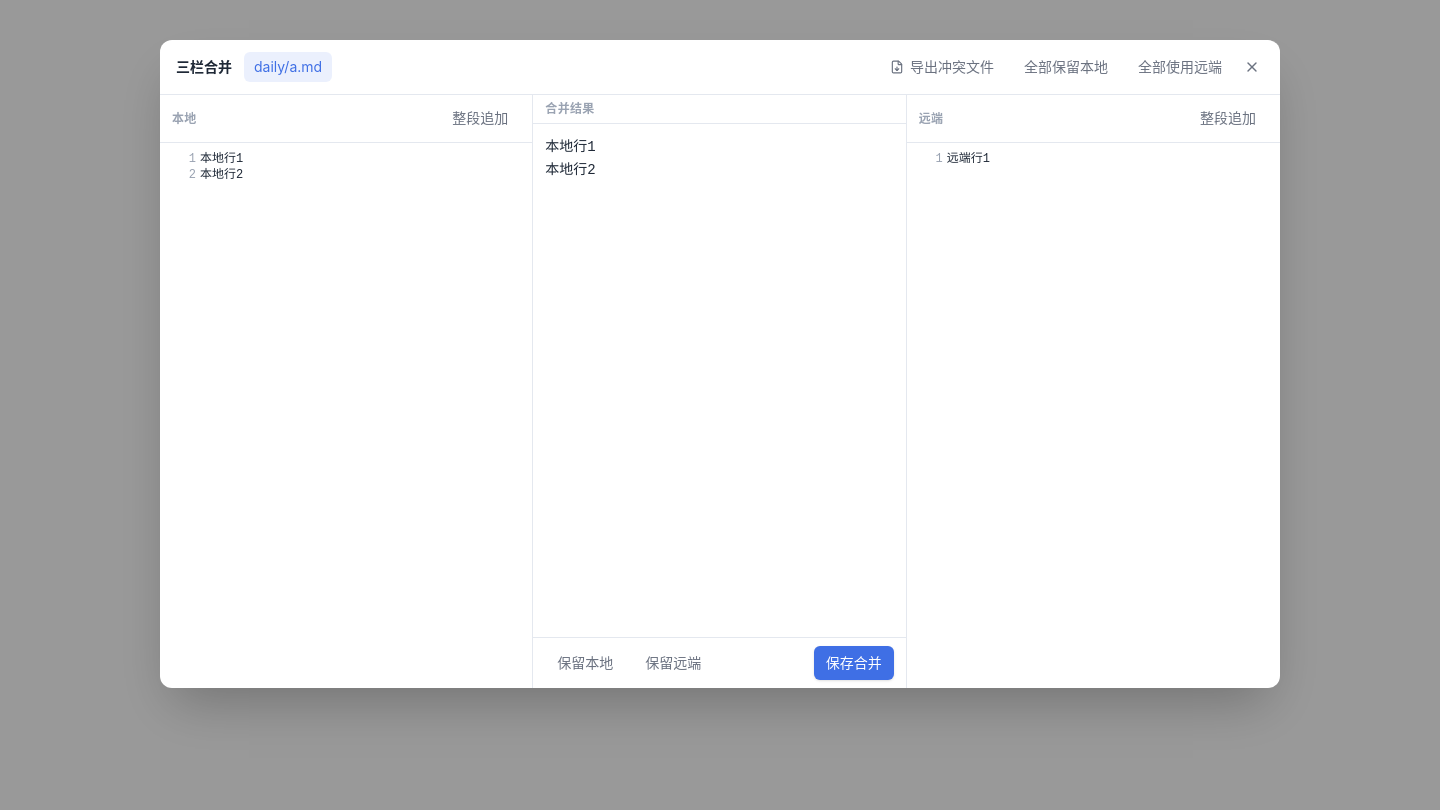
Test case: ConflictMergeDialog 导出兜底 › 提供「导出冲突文件」兜底并回显保存位置
What coordinates should you click on to do the following:
click the button "导出冲突文件"
I would click on:
 (942, 67)
Its box is [878,50,1006,84].
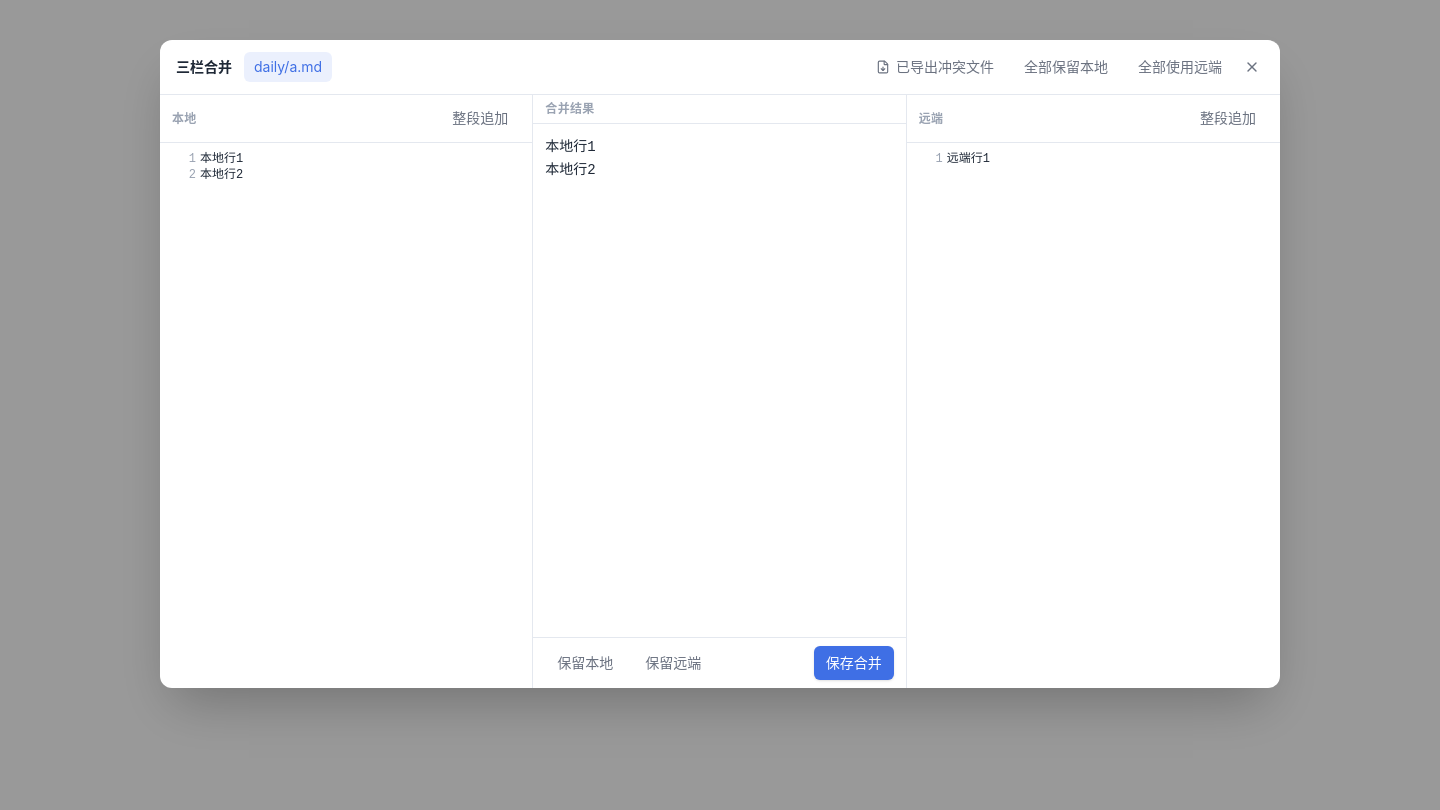
Expected: the button titled "/tmp/ainote-conflicts.zip" is shown, [864,50,1006,84]
